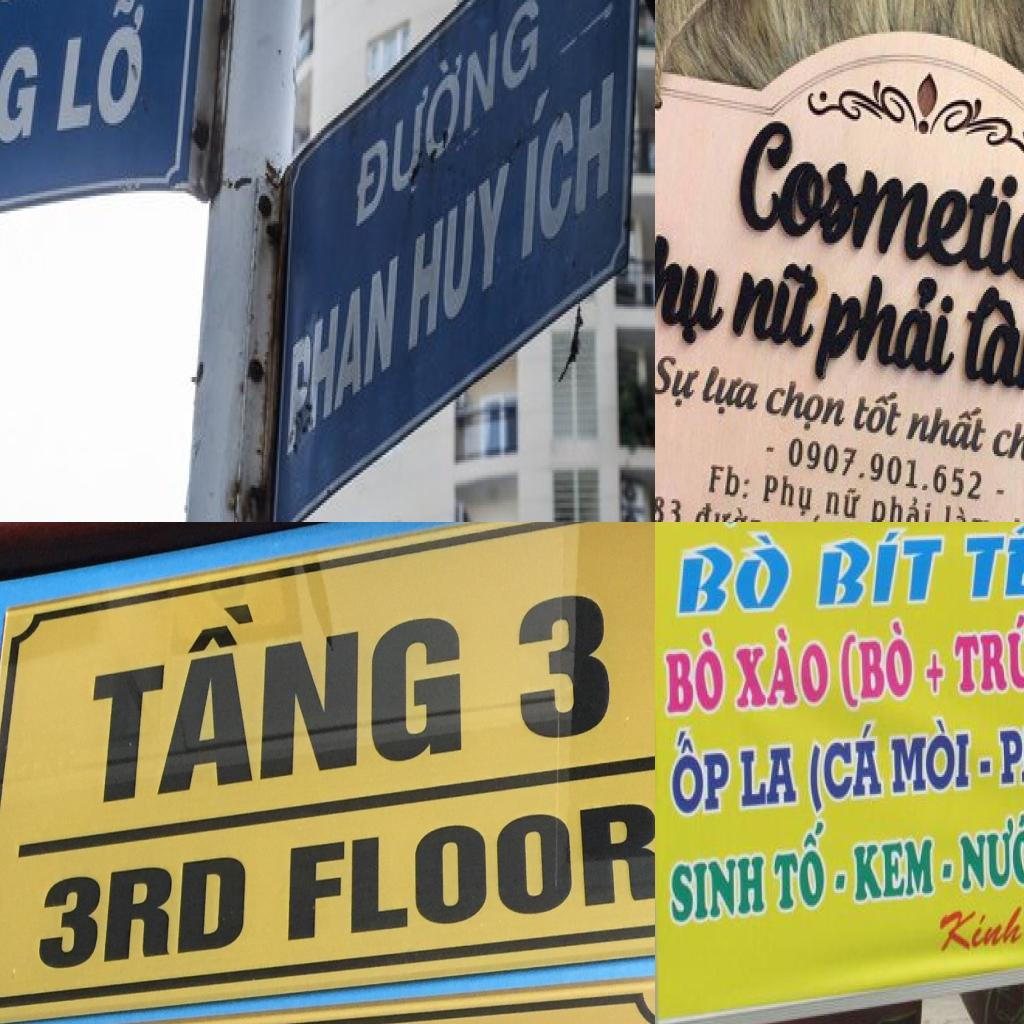text: (86, 575, 462, 807), (729, 114, 1024, 302), (287, 797, 655, 943), (348, 0, 547, 246), (282, 241, 403, 470), (36, 855, 246, 975), (516, 32, 619, 274), (403, 153, 513, 362), (808, 256, 966, 392), (783, 433, 997, 507), (49, 0, 150, 140), (515, 591, 614, 730), (655, 213, 735, 358), (815, 526, 950, 610), (730, 245, 829, 356), (674, 530, 793, 618), (732, 622, 832, 712), (0, 7, 50, 183), (957, 283, 1024, 409), (668, 850, 770, 930), (807, 719, 886, 821), (836, 617, 920, 712), (951, 606, 1024, 706), (759, 371, 855, 443), (889, 716, 973, 798), (850, 834, 939, 908), (670, 724, 733, 821), (664, 627, 730, 717), (958, 806, 1024, 894), (771, 818, 829, 915), (958, 522, 1024, 603), (901, 403, 991, 458), (695, 360, 768, 426), (937, 901, 1024, 956), (736, 743, 802, 813), (655, 341, 709, 418), (848, 390, 908, 443), (759, 469, 816, 520), (996, 703, 1024, 802), (706, 456, 756, 507), (865, 488, 936, 522), (693, 498, 787, 522), (989, 420, 1024, 471), (821, 481, 864, 522), (923, 649, 949, 702), (942, 501, 995, 522), (655, 488, 686, 522), (792, 511, 825, 522)
